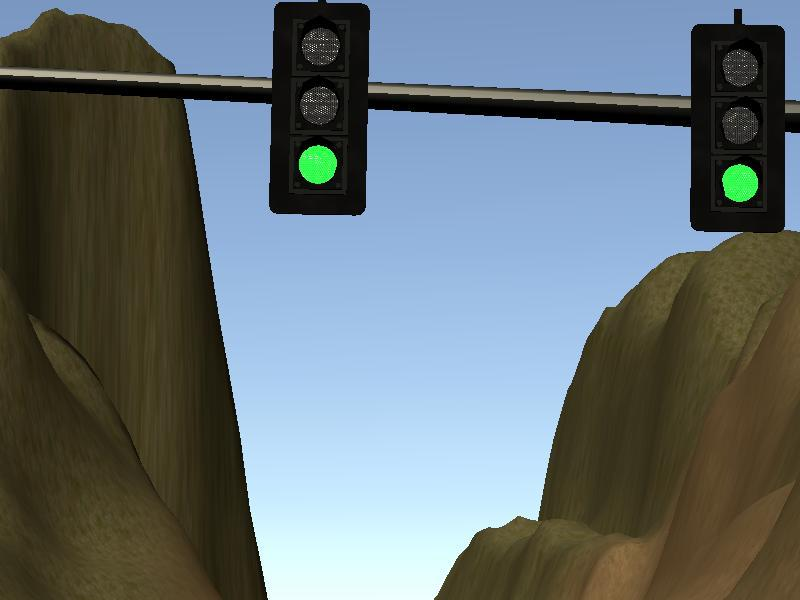Green: (277, 2, 366, 216), (693, 26, 781, 229)
